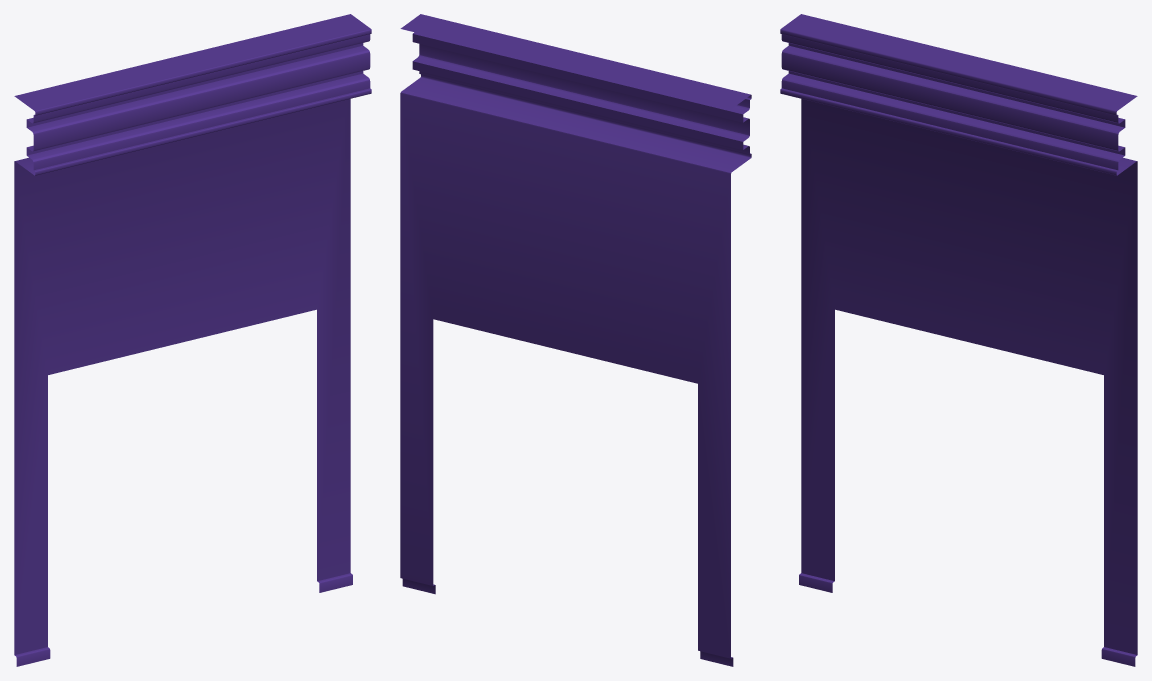
The model's file is GS_Ext_Front_Wall_Doorway.fbx.
3 renders of one model, left to right at view 1: azimuth 30°, elevation 25°; view 2: azimuth 150°, elevation 25°; view 3: azimuth 330°, elevation 25°, orthographic.
Parts seen in each view (by area): view 1: GS_Ext_Front_Wall_Doorway; view 2: GS_Ext_Front_Wall_Doorway; view 3: GS_Ext_Front_Wall_Doorway.
Boxes of the visible parts, <box> form: GS_Ext_Front_Wall_Doorway: <box>14,14,371,666</box>; GS_Ext_Front_Wall_Doorway: <box>400,14,751,666</box>; GS_Ext_Front_Wall_Doorway: <box>780,14,1137,666</box>.
Size of the model in its own units: 250 by 404 by 27.
